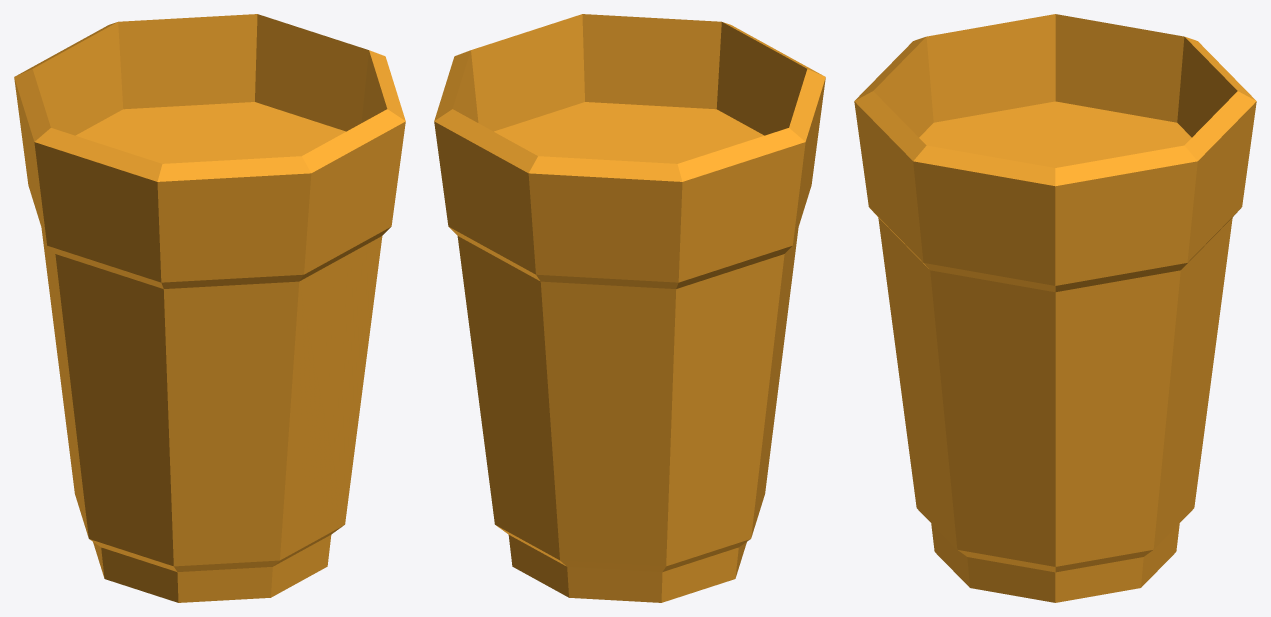
Rendered from SM_Cup_Plastic_Full.fbx.
3 views of the same model, side by side, from view 1: azimuth 30°, elevation 25°; view 2: azimuth 150°, elevation 25°; view 3: azimuth 270°, elevation 25° (orthographic).
Visible parts, largest first — view 1: cup-plastic-full; view 2: cup-plastic-full; view 3: cup-plastic-full.
Part boxes in pixels (x1,y1,x2,y2): cup-plastic-full: (14, 14, 405, 602); cup-plastic-full: (434, 14, 825, 602); cup-plastic-full: (854, 14, 1256, 602).
Size of the model in its own units: 0.1114 by 0.1408 by 0.1114.
